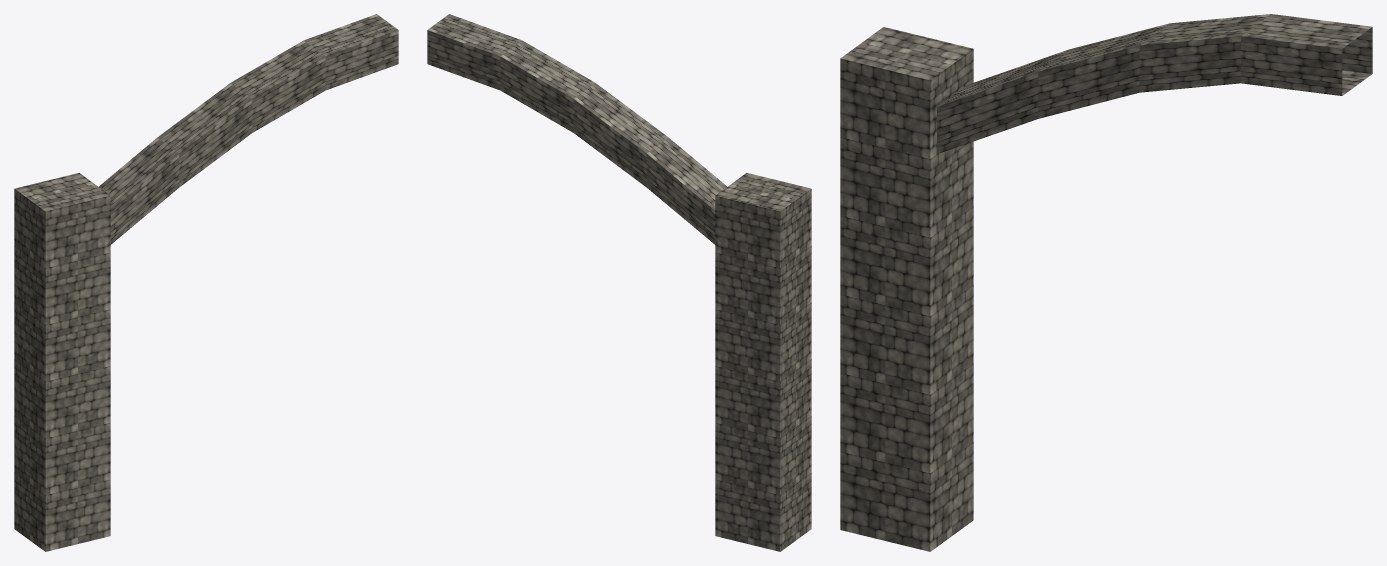
Rendered from Flyingbuttress_1_LOD2.gltf.
3 views of the same model, side by side, from view 1: azimuth 30°, elevation 25°; view 2: azimuth 150°, elevation 25°; view 3: azimuth 330°, elevation 25° (orthographic). The views are drawn at different scales.
Visible parts, largest first — view 1: Flyingbuttress_1_LOD2; view 2: Flyingbuttress_1_LOD2; view 3: Flyingbuttress_1_LOD2.
Boxes of the visible parts, x1=… form: Flyingbuttress_1_LOD2: x1=14, y1=14, x2=398, y2=551; Flyingbuttress_1_LOD2: x1=427, y1=14, x2=811, y2=551; Flyingbuttress_1_LOD2: x1=840, y1=14, x2=1372, y2=551.
Size of the model in its own units: 6.6 by 7.6 by 1.
Materials: 1 (1 with a texture image).
